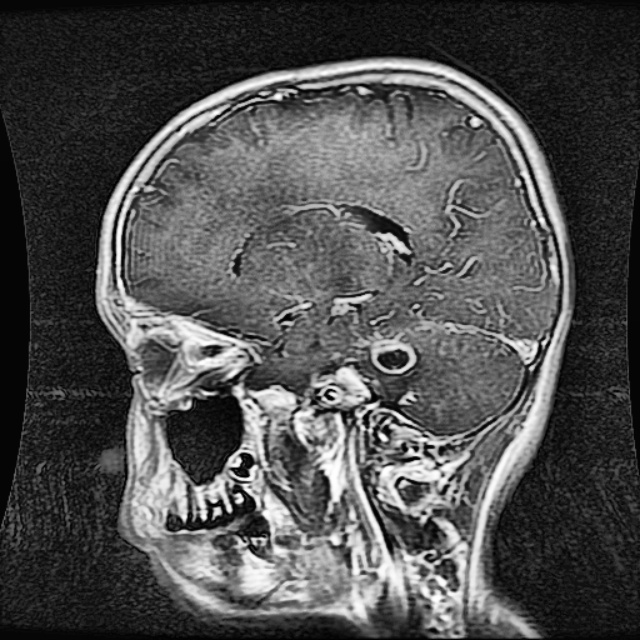Meningioma: (372, 338, 417, 373)
